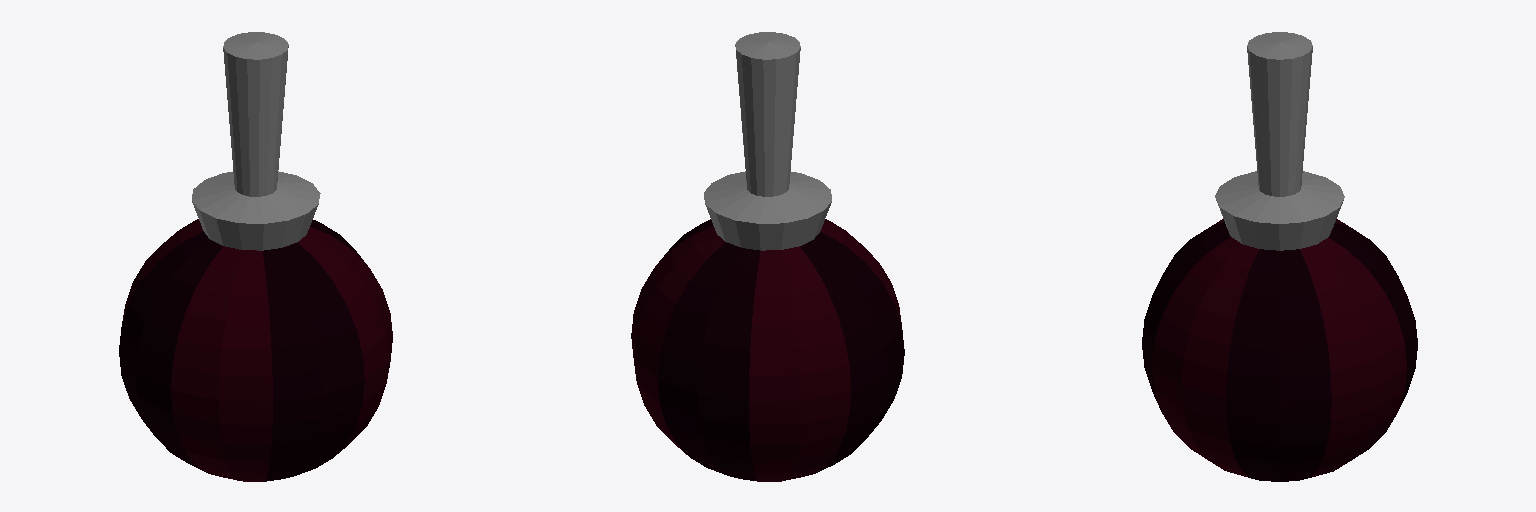
File: joystick1A(F288).obj
3 renders of one model, left to right at view 1: azimuth 30°, elevation 25°; view 2: azimuth 150°, elevation 25°; view 3: azimuth 270°, elevation 25°, orthographic.
Parts seen in each view (by area): view 1: Sphere.001; view 2: Sphere.001; view 3: Sphere.001.
Part boxes in pixels (x1,y1,x2,y2): Sphere.001: (119,32,392,481); Sphere.001: (631,32,904,481); Sphere.001: (1142,32,1417,481).
Bounding box in the file's own units: 0.8752 × 1.49 × 0.8752.